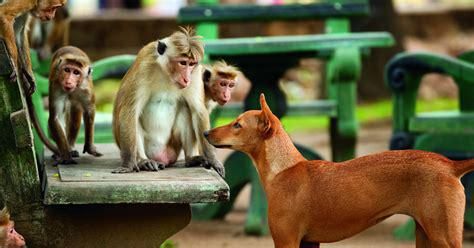dog: (203, 93, 474, 248)
monkey: (112, 31, 224, 174), (47, 46, 100, 165), (202, 62, 236, 111)
